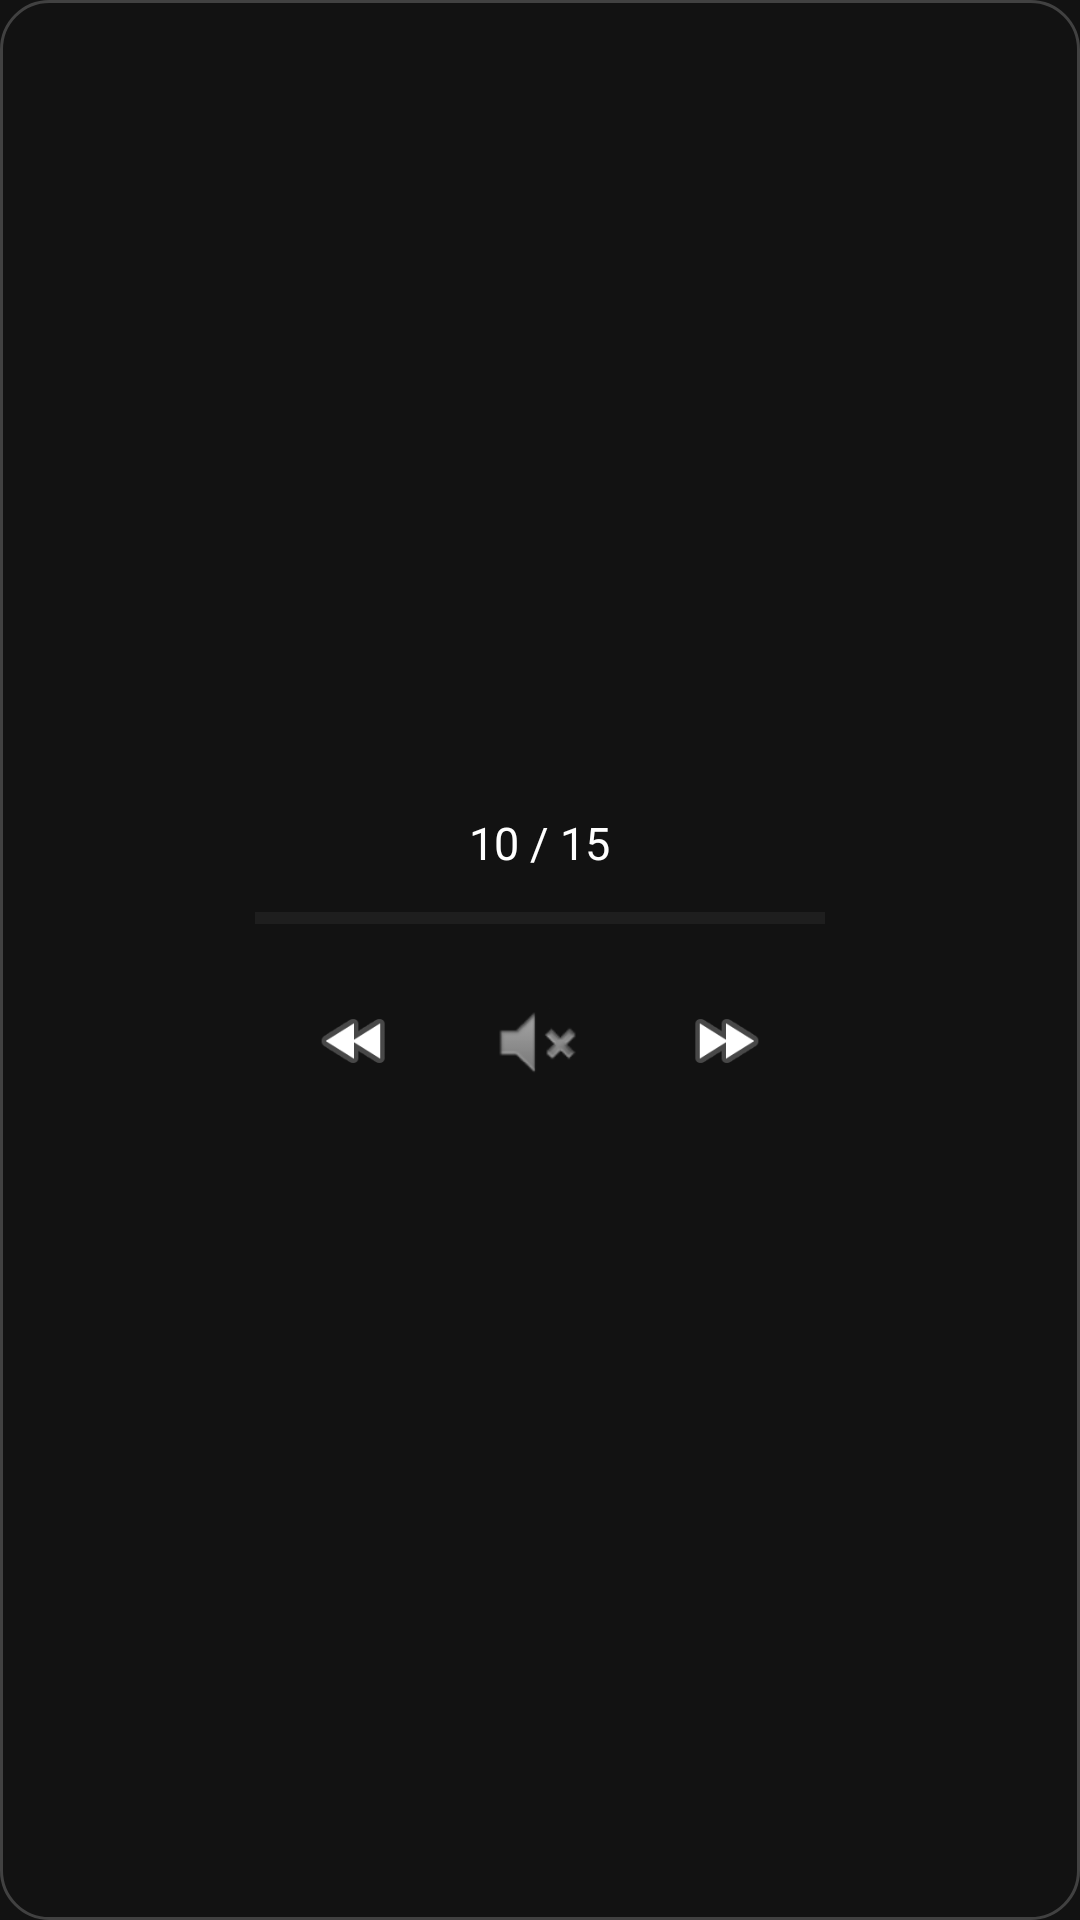

Locate icon controls on the screen. Image size 1080x1920, boxes as (x1=x1, y1=y1, x2=x2, y2=y2).
Mute: (x1=500, y1=1013, x2=575, y2=1072)
